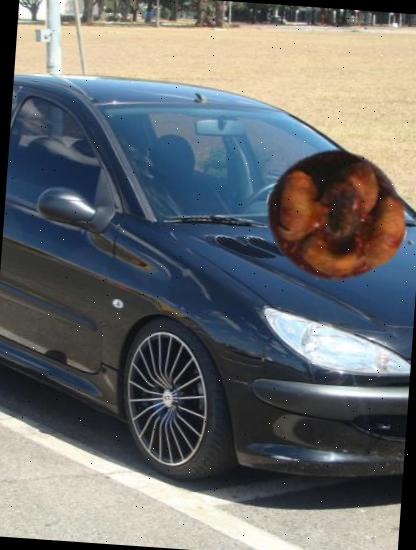Mangostan: (260, 140, 414, 294)
